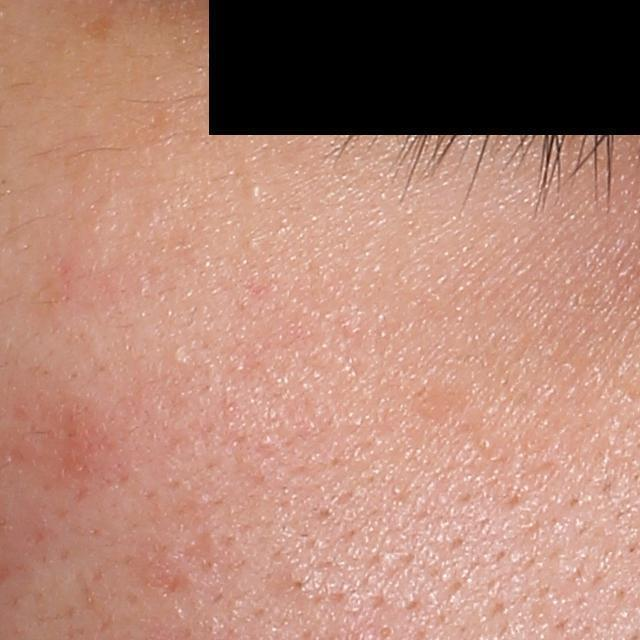comedo: (241, 178, 266, 205), (163, 342, 190, 365)
melasma: (81, 12, 114, 49)
